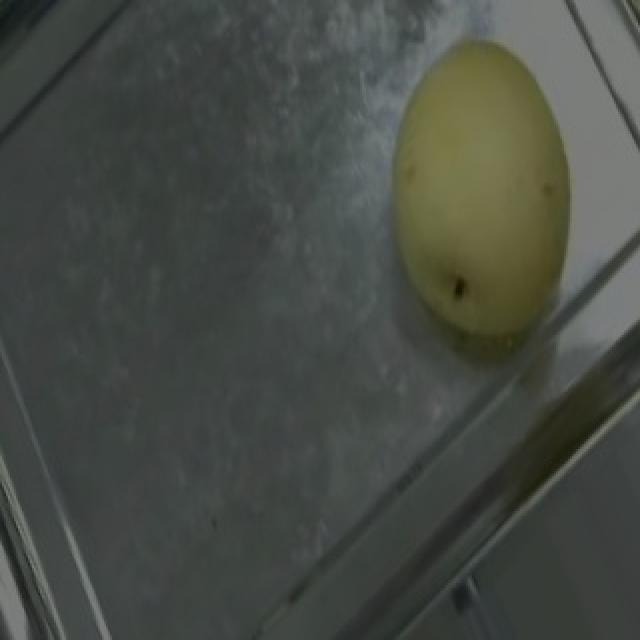Fruit: (340, 0, 620, 372)
